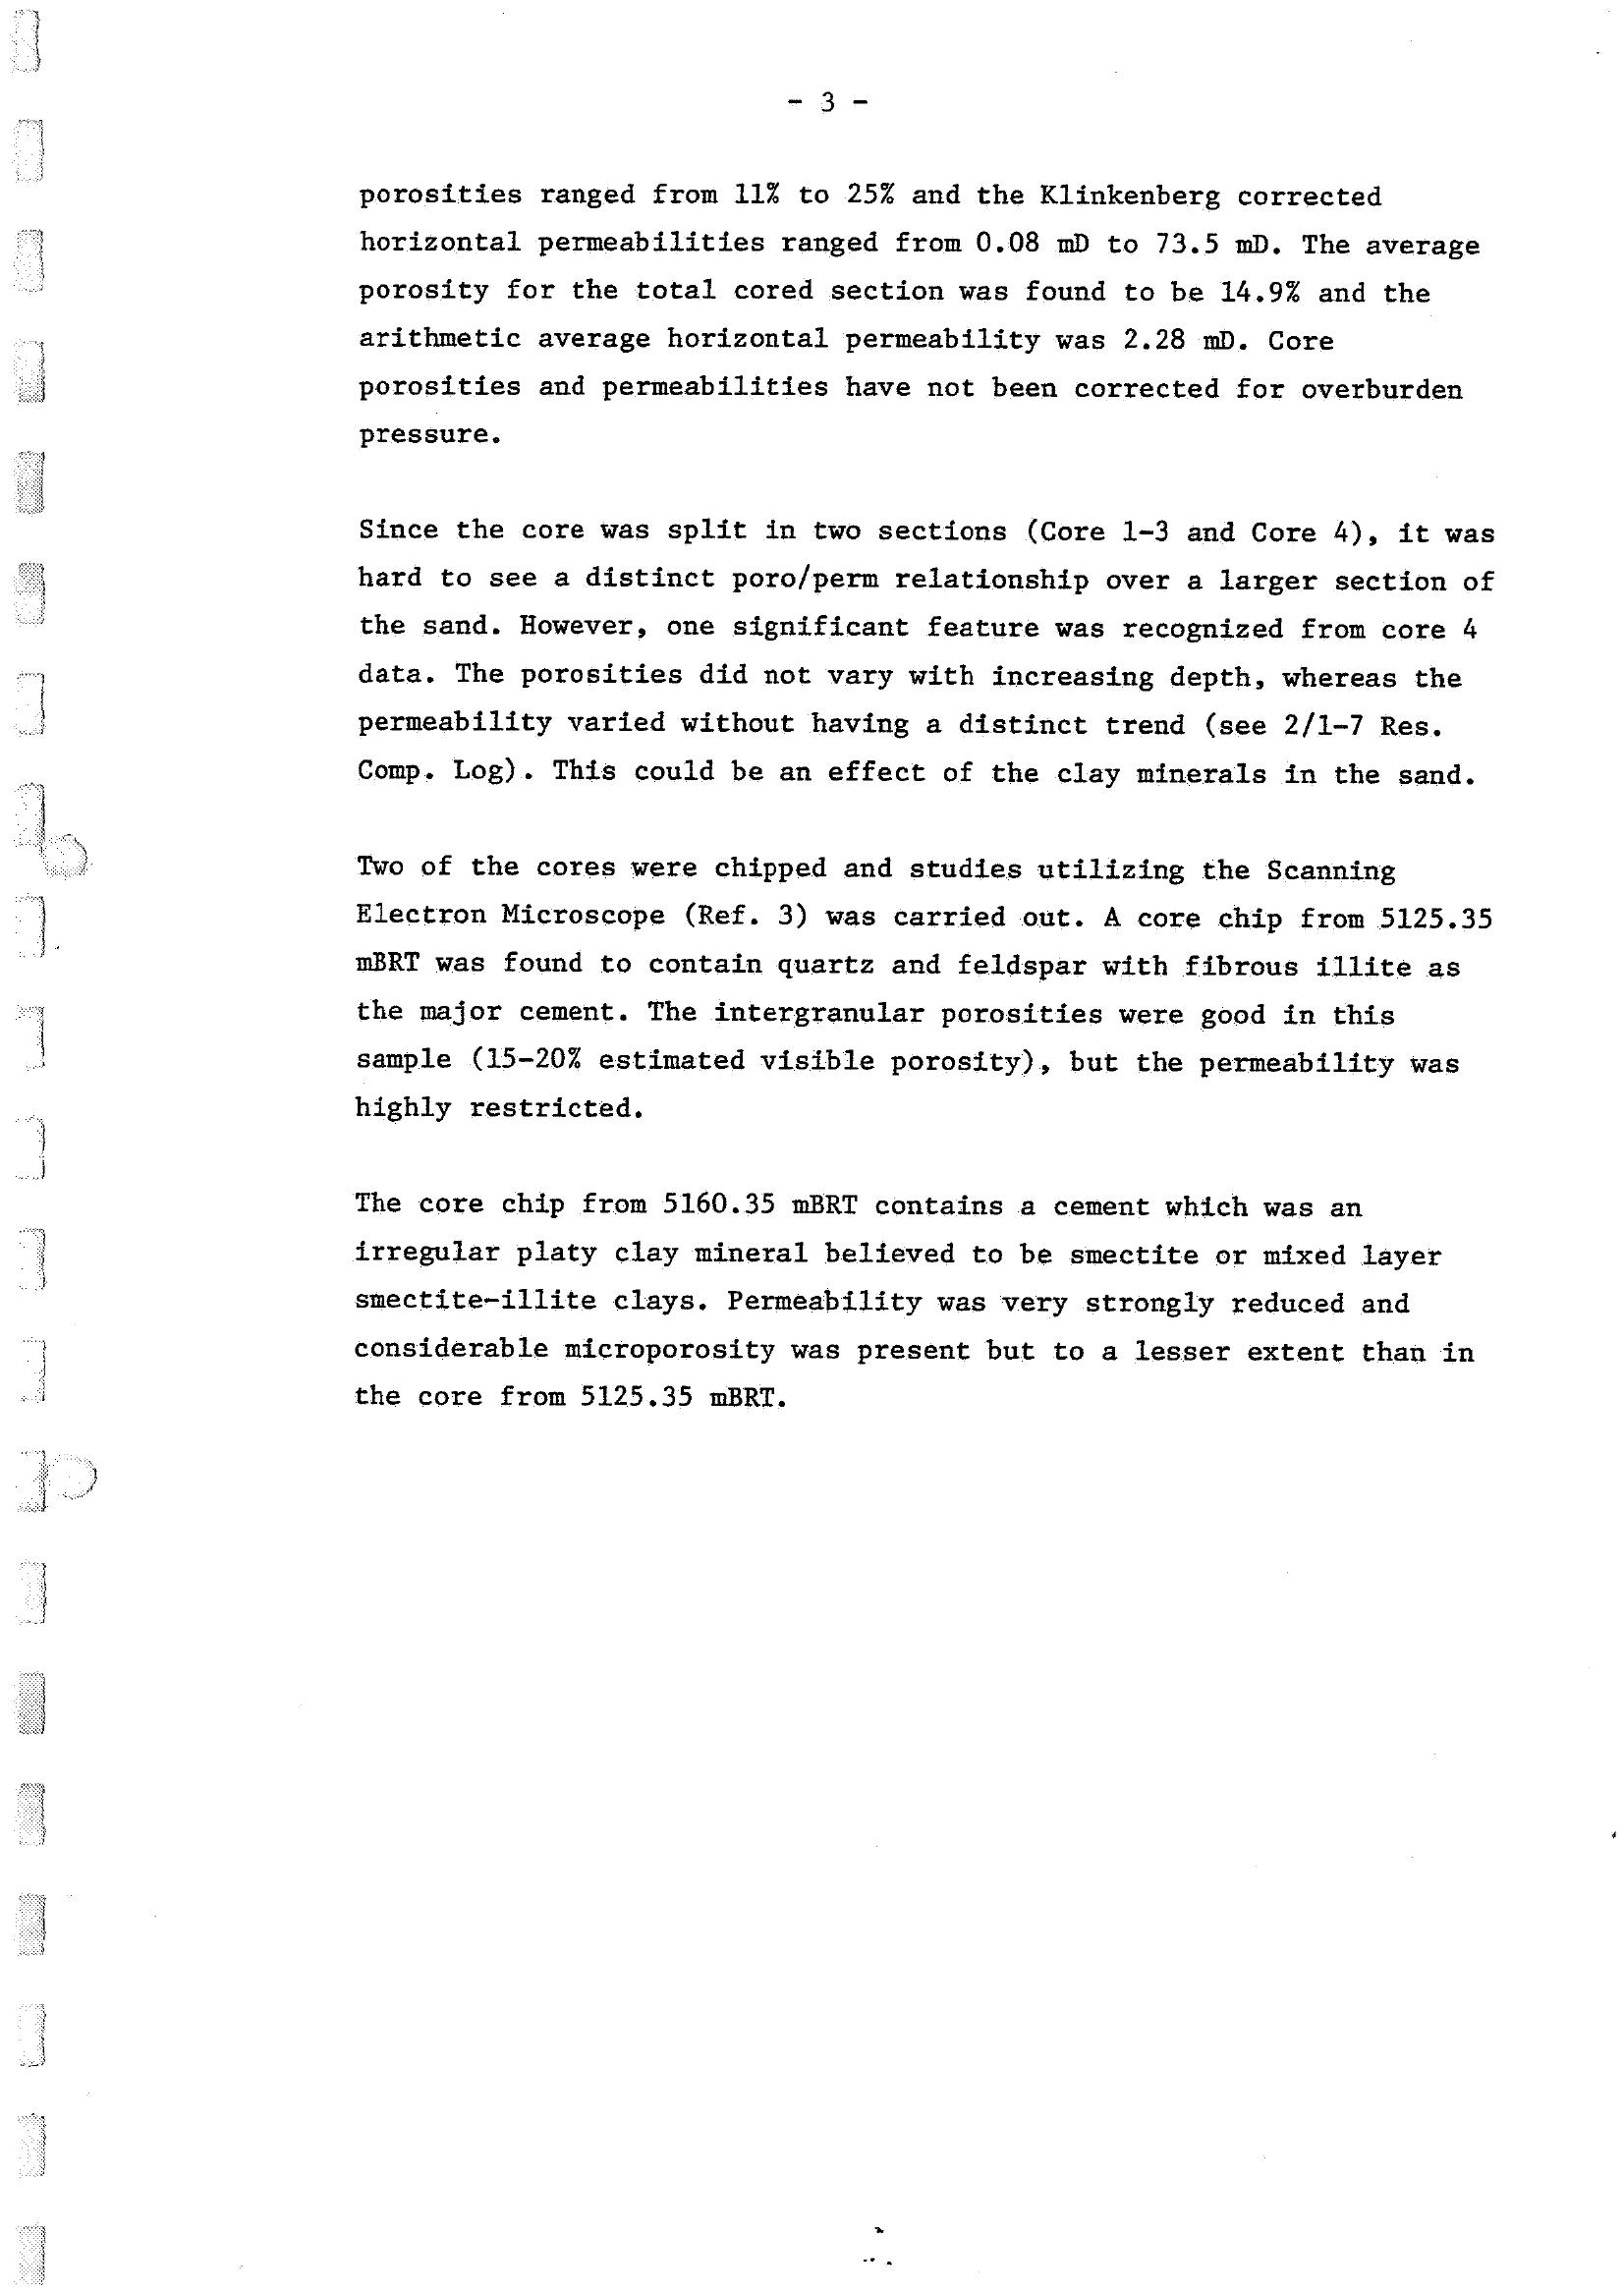text: (318, 144, 1522, 1474)
